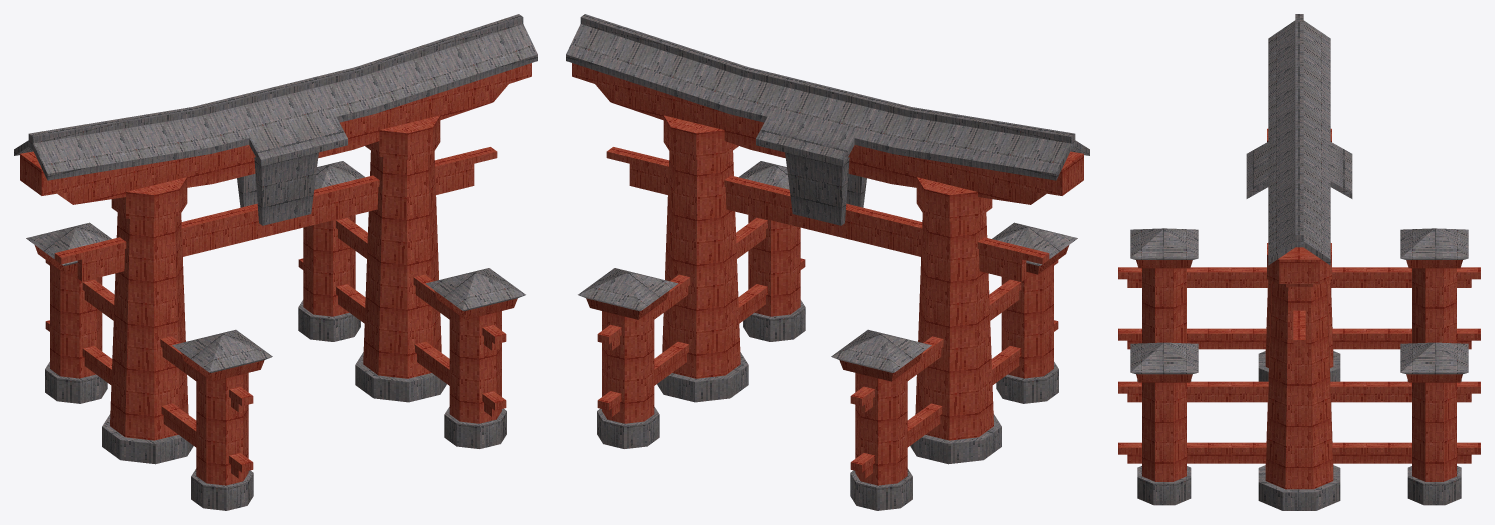
Rendered from Portal.fbx.
The picture shows the model from 3 angles, left to right: view 1: azimuth 30°, elevation 25°; view 2: azimuth 150°, elevation 25°; view 3: azimuth 270°, elevation 25°; orthographic projection. The views are drawn at different scales.
Parts seen in each view (by area): view 1: Cylinder, Cube.003, Cylinder.001, Cube.001, Cube, Cube.002, Cube.004; view 2: Cylinder, Cube.003, Cylinder.001, Cube.001, Cube, Cube.002, Cube.004; view 3: Cylinder.001, Cube.002, Cube.003, Cylinder, Cube, Cube.001.
Part boxes in pixels (left/top/right/bottom): Cylinder: left=102, top=115, right=446, bottom=464; Cube.003: left=14, top=14, right=537, bottom=180; Cylinder.001: left=45, top=215, right=506, bottom=510; Cube.001: left=20, top=63, right=531, bottom=281; Cube: left=26, top=161, right=525, bottom=381; Cube.002: left=45, top=217, right=506, bottom=478; Cube.004: left=237, top=152, right=318, bottom=225; Cylinder: left=657, top=115, right=1001, bottom=464; Cube.003: left=566, top=14, right=1089, bottom=180; Cylinder.001: left=597, top=215, right=1058, bottom=510; Cube.001: left=572, top=63, right=1083, bottom=281; Cube: left=578, top=161, right=1077, bottom=381; Cube.002: left=597, top=217, right=1058, bottom=478; Cube.004: left=785, top=152, right=866, bottom=225; Cylinder.001: left=1137, top=268, right=1461, bottom=505; Cube.002: left=1118, top=267, right=1480, bottom=463; Cube.003: left=1246, top=14, right=1352, bottom=265; Cylinder: left=1258, top=128, right=1340, bottom=510; Cube: left=1130, top=228, right=1468, bottom=382; Cube.001: left=1279, top=247, right=1319, bottom=357.
Size of the model in its own units: 774 by 510 by 537.
